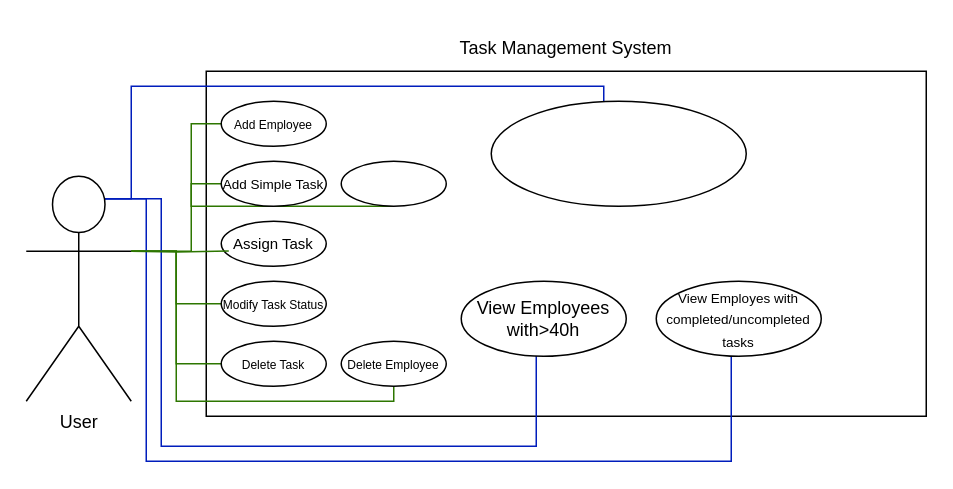
The diagram is 953 pixels wide and 489 high, and some of its shapes have lost their labels. Each missing label, with the centre of its shape:
Add Complex Task: the point at 393,183
View Tasks: the point at 618,153
